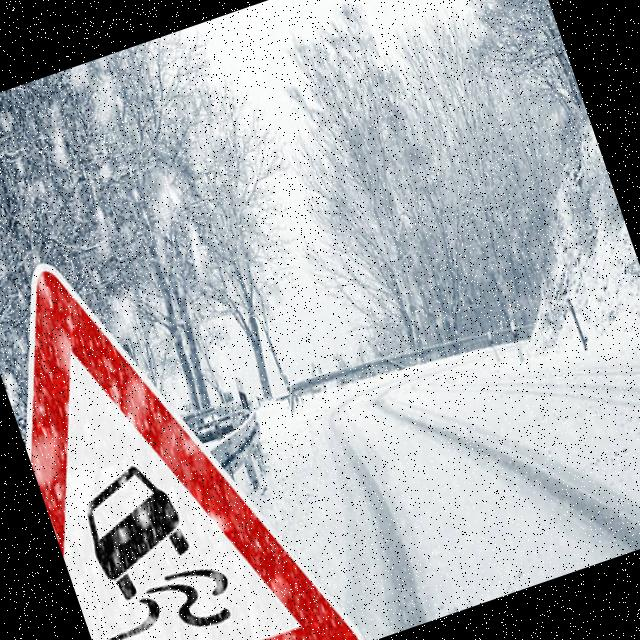road_slippery: (0, 203, 365, 640)
